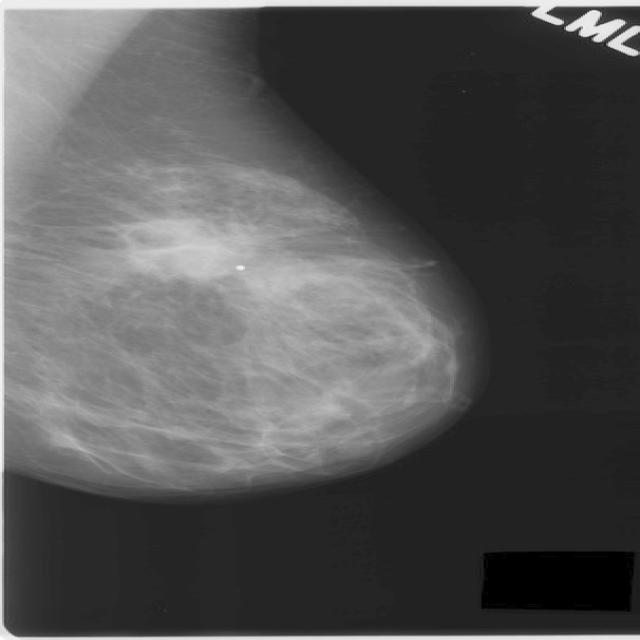tumour: (116, 214, 247, 277)
